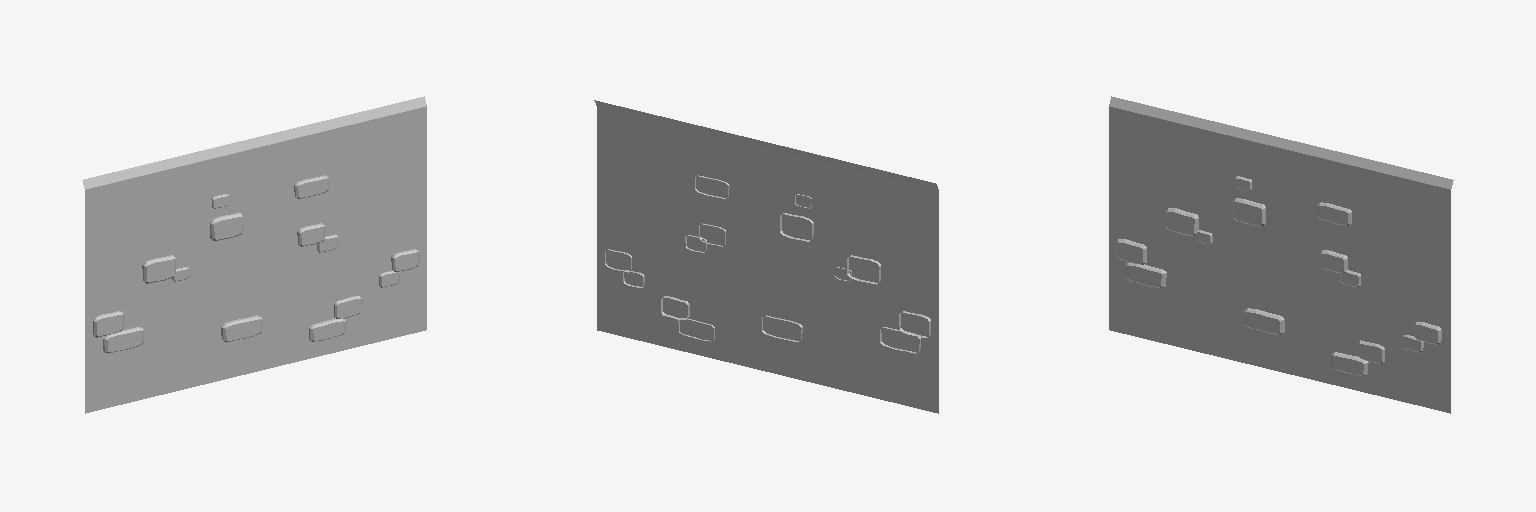
The model's file is Dungeon_Wall.obj.
3 renders of one model, left to right at view 1: azimuth 30°, elevation 25°; view 2: azimuth 150°, elevation 25°; view 3: azimuth 330°, elevation 25°, orthographic.
Visible parts, largest first — view 1: Dungeon_Big_Wall; view 2: Dungeon_Big_Wall; view 3: Dungeon_Big_Wall.
Boxes of the visible parts, x1=… form: Dungeon_Big_Wall: x1=82, y1=96, x2=426, y2=413; Dungeon_Big_Wall: x1=594, y1=100, x2=938, y2=413; Dungeon_Big_Wall: x1=1109, y1=96, x2=1453, y2=413.
Bounding box in the file's own units: 8 × 5.18 × 0.2076.